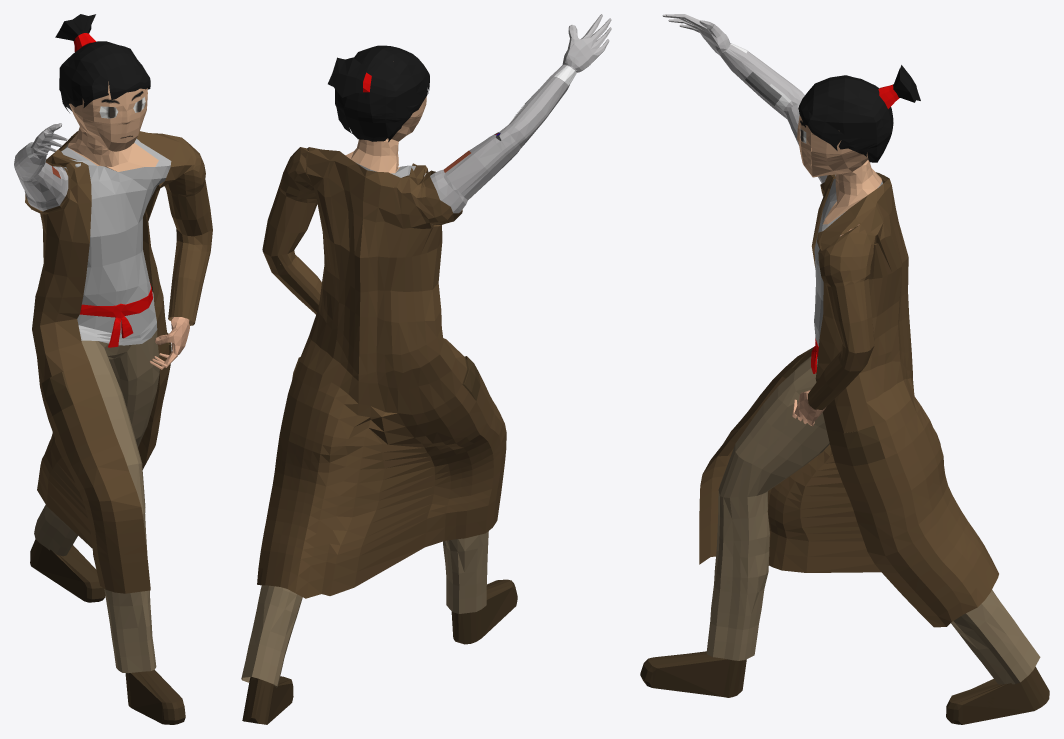
File: Special_Attack_000030.obj
3 views of the same model, side by side, from view 1: azimuth 30°, elevation 25°; view 2: azimuth 150°, elevation 25°; view 3: azimuth 270°, elevation 25° (orthographic). The views are drawn at different scales.
Parts seen in each view (by area): view 1: Hair_Cube.004; view 2: Hair_Cube.004; view 3: Hair_Cube.004.
Boxes of the visible parts, <box> form: Hair_Cube.004: <box>14,14,212,724</box>; Hair_Cube.004: <box>241,14,611,724</box>; Hair_Cube.004: <box>640,14,1049,724</box>.
Bounding box in the file's own units: 1.61 × 3.78 × 2.2.
